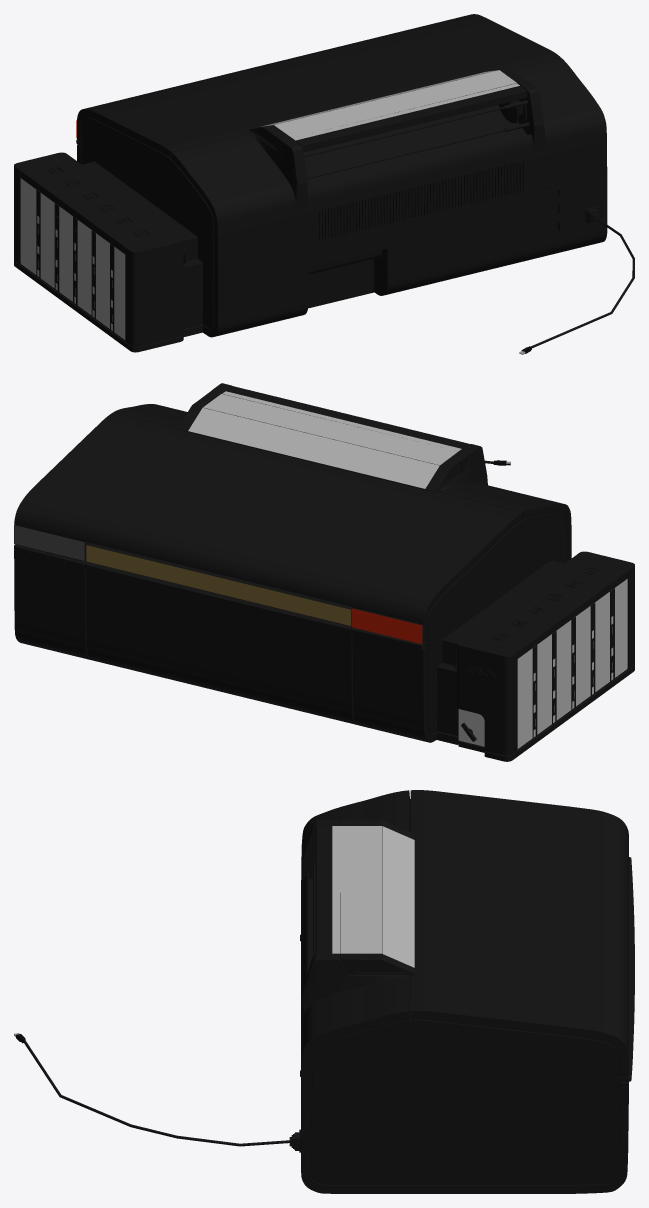
Rendered from printer.FBX.
3 renders of one model, top to bottom at view 1: azimuth 30°, elevation 25°; view 2: azimuth 150°, elevation 25°; view 3: azimuth 270°, elevation 25°, orthographic. The views are drawn at different scales.
Parts seen in each view (by area): view 1: Line001, Box003; view 2: Line001, Object02, Object03, Object01; view 3: Line001, Box003.
Boxes of the visible parts, x1,y1,x2,y2 form: Line001: (14, 14, 607, 352); Box003: (531, 208, 634, 348); Line001: (14, 383, 634, 761); Object02: (86, 545, 351, 625); Object03: (14, 525, 84, 560); Object01: (352, 608, 422, 644); Line001: (299, 790, 634, 1193); Box003: (23, 1040, 299, 1150).
Size of the model in its own units: 88.16 by 31.2 by 88.19.
